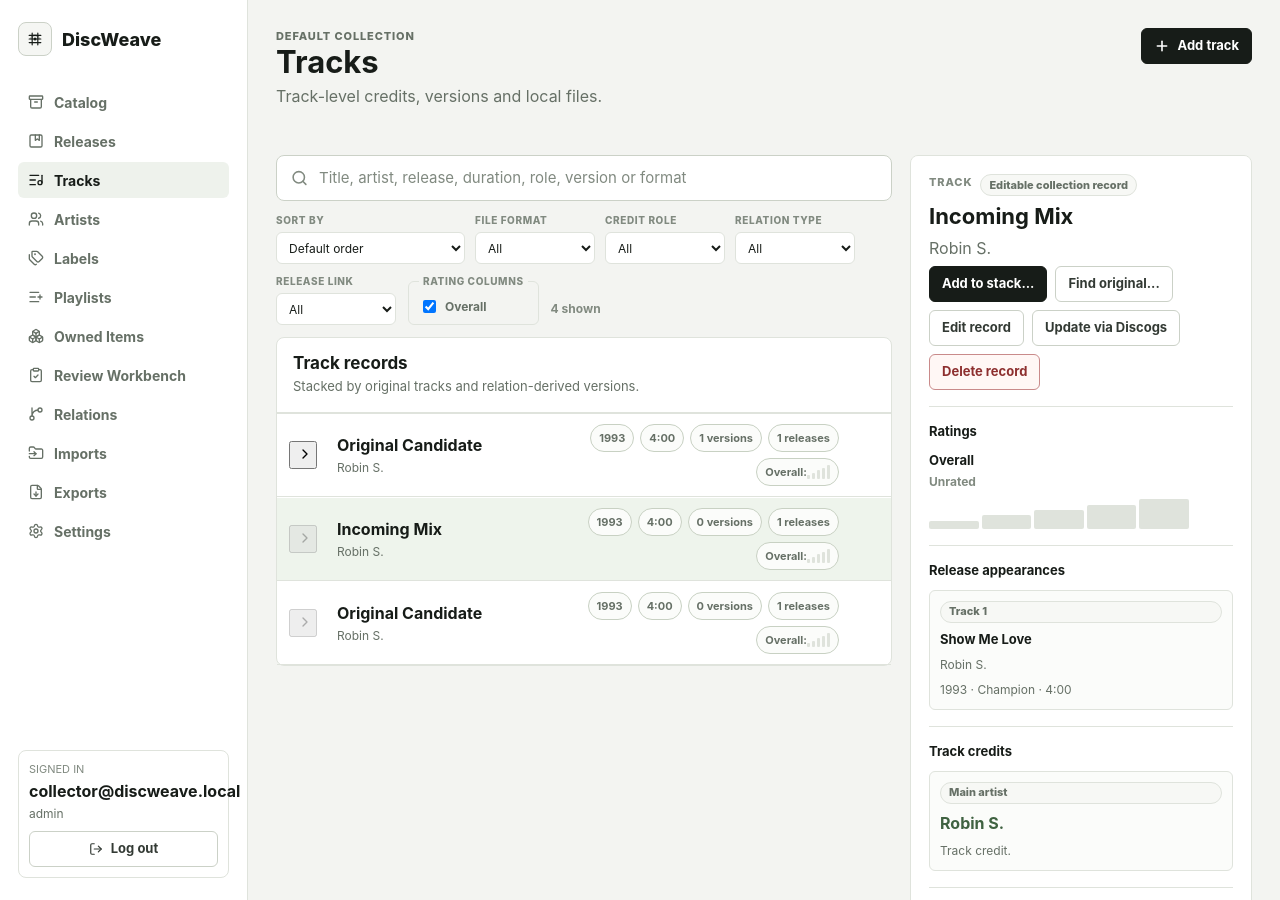
Scenario: App local original-track discovery › falls back to external discovery only after a non-reliable local response
Click the button "Find original...". click: click(1114, 284)
box: [1055, 266, 1173, 302]
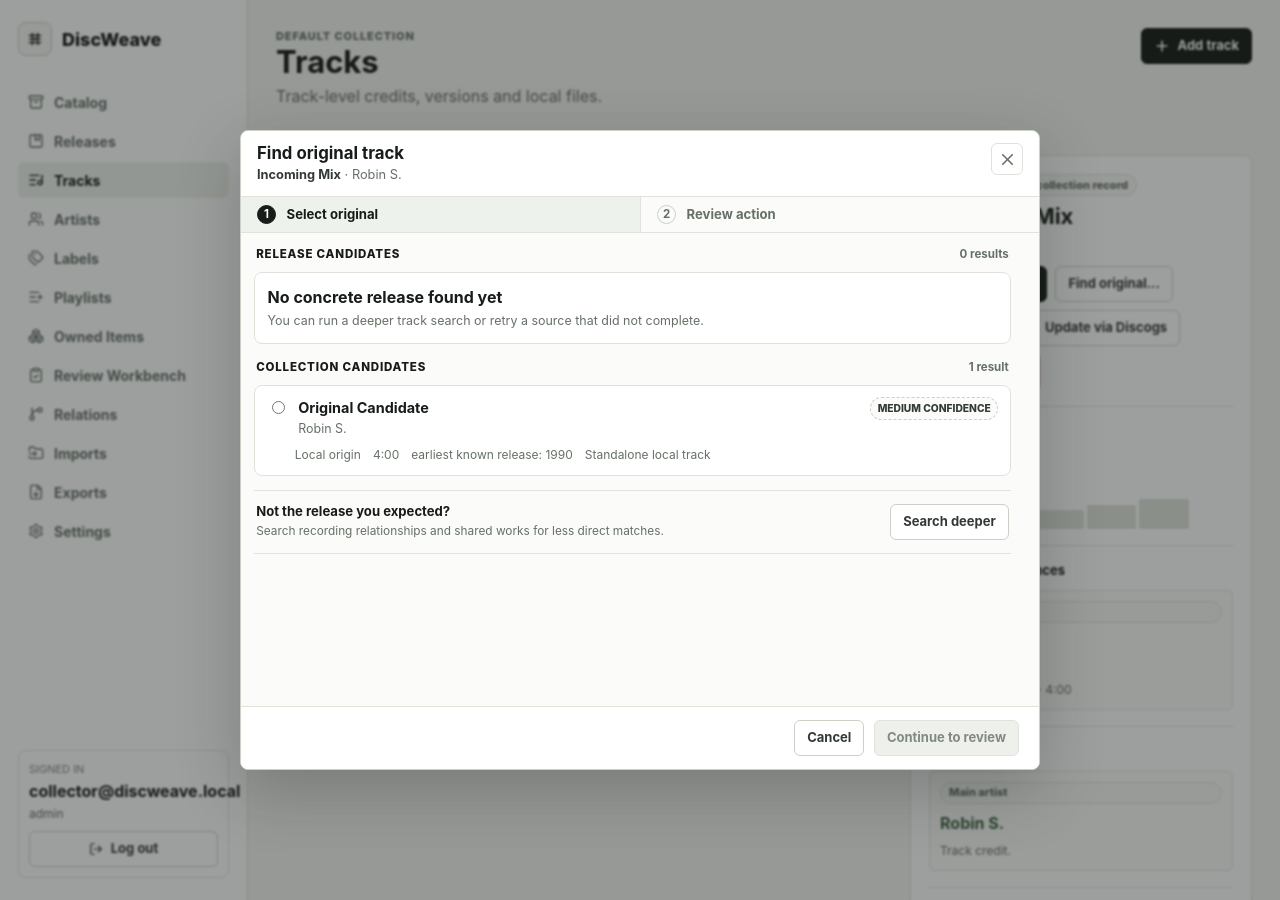
Expected: the radio button labelled "Original Candidate Robin S. Medium confidence" is shown, [272, 401, 285, 414]
Expected: the dialog named "Find original for Incoming Mix" shows "No concrete release found yet", [268, 287, 502, 307]
Click the button "Search deeper". click: click(950, 522)
box: [890, 504, 1009, 540]
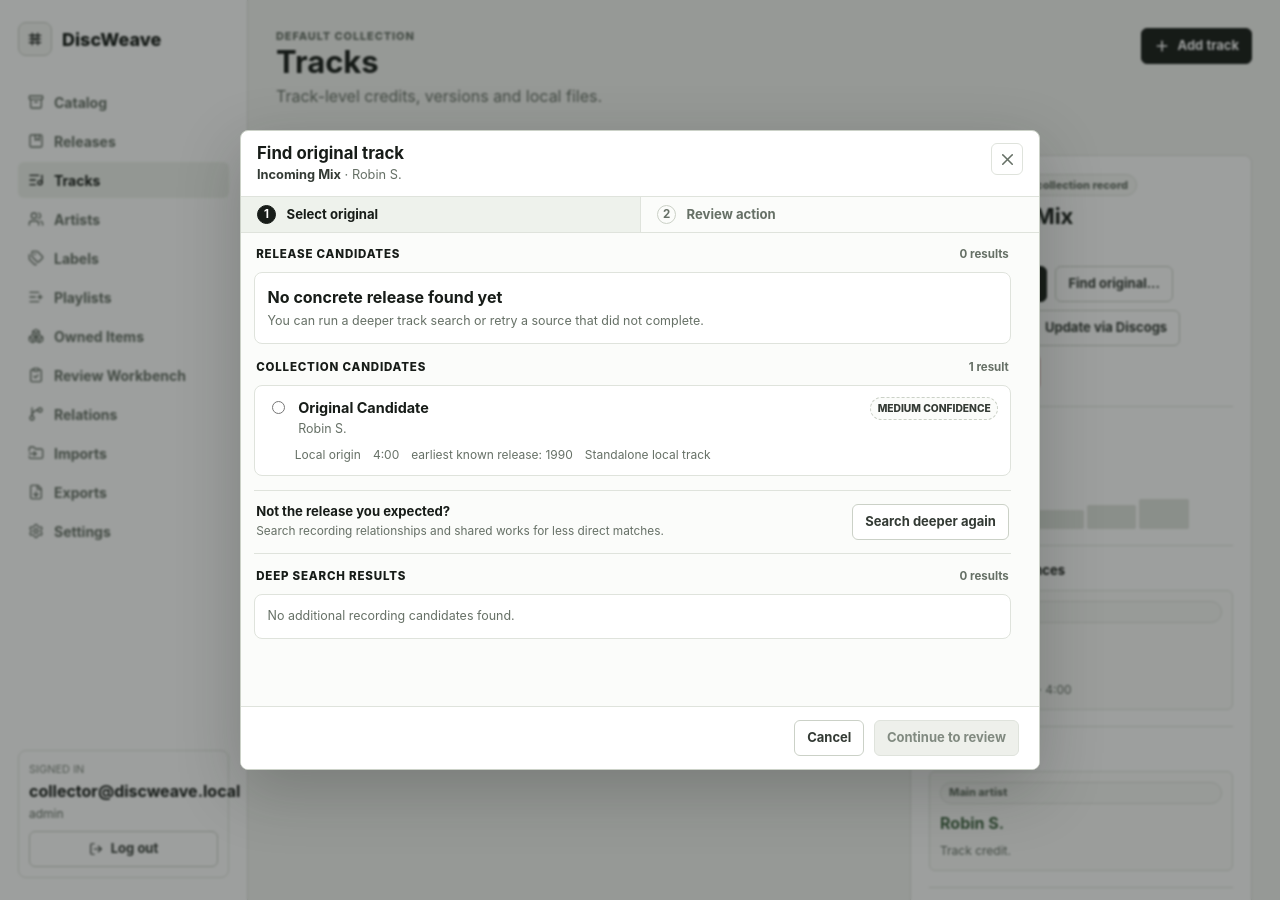
Expected: the text "No additional recording candidates found." is shown, [254, 594, 1011, 639]
